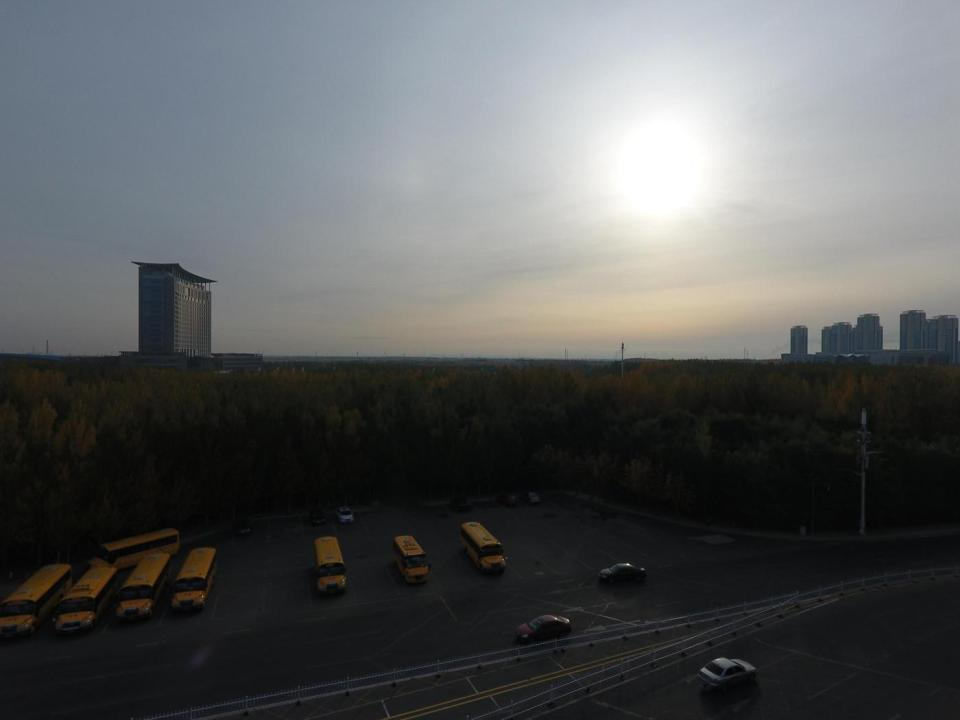bus: (0, 562, 73, 638), (86, 526, 180, 571), (54, 567, 117, 634), (118, 551, 170, 624), (170, 546, 219, 614), (457, 520, 507, 574), (314, 534, 348, 597), (391, 534, 430, 588)
car: (698, 656, 758, 691), (515, 614, 570, 641), (597, 561, 646, 583), (305, 505, 327, 526), (446, 496, 470, 512), (231, 518, 252, 536), (336, 506, 354, 524), (500, 491, 518, 508), (523, 490, 541, 507)
